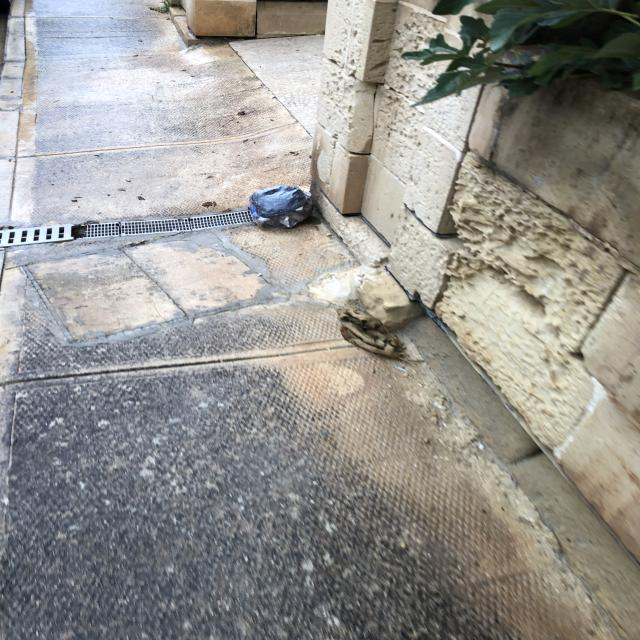Mixed Waste -Black Bag-: (251, 184, 318, 229)
Other: (337, 307, 421, 362)
